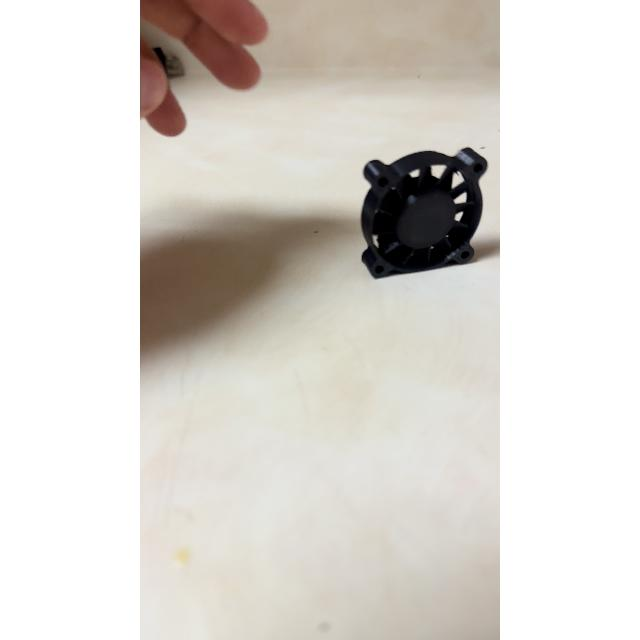Pieza_4: (339, 136, 489, 282)
